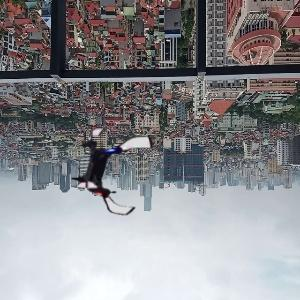drone: (67, 127, 160, 220)
